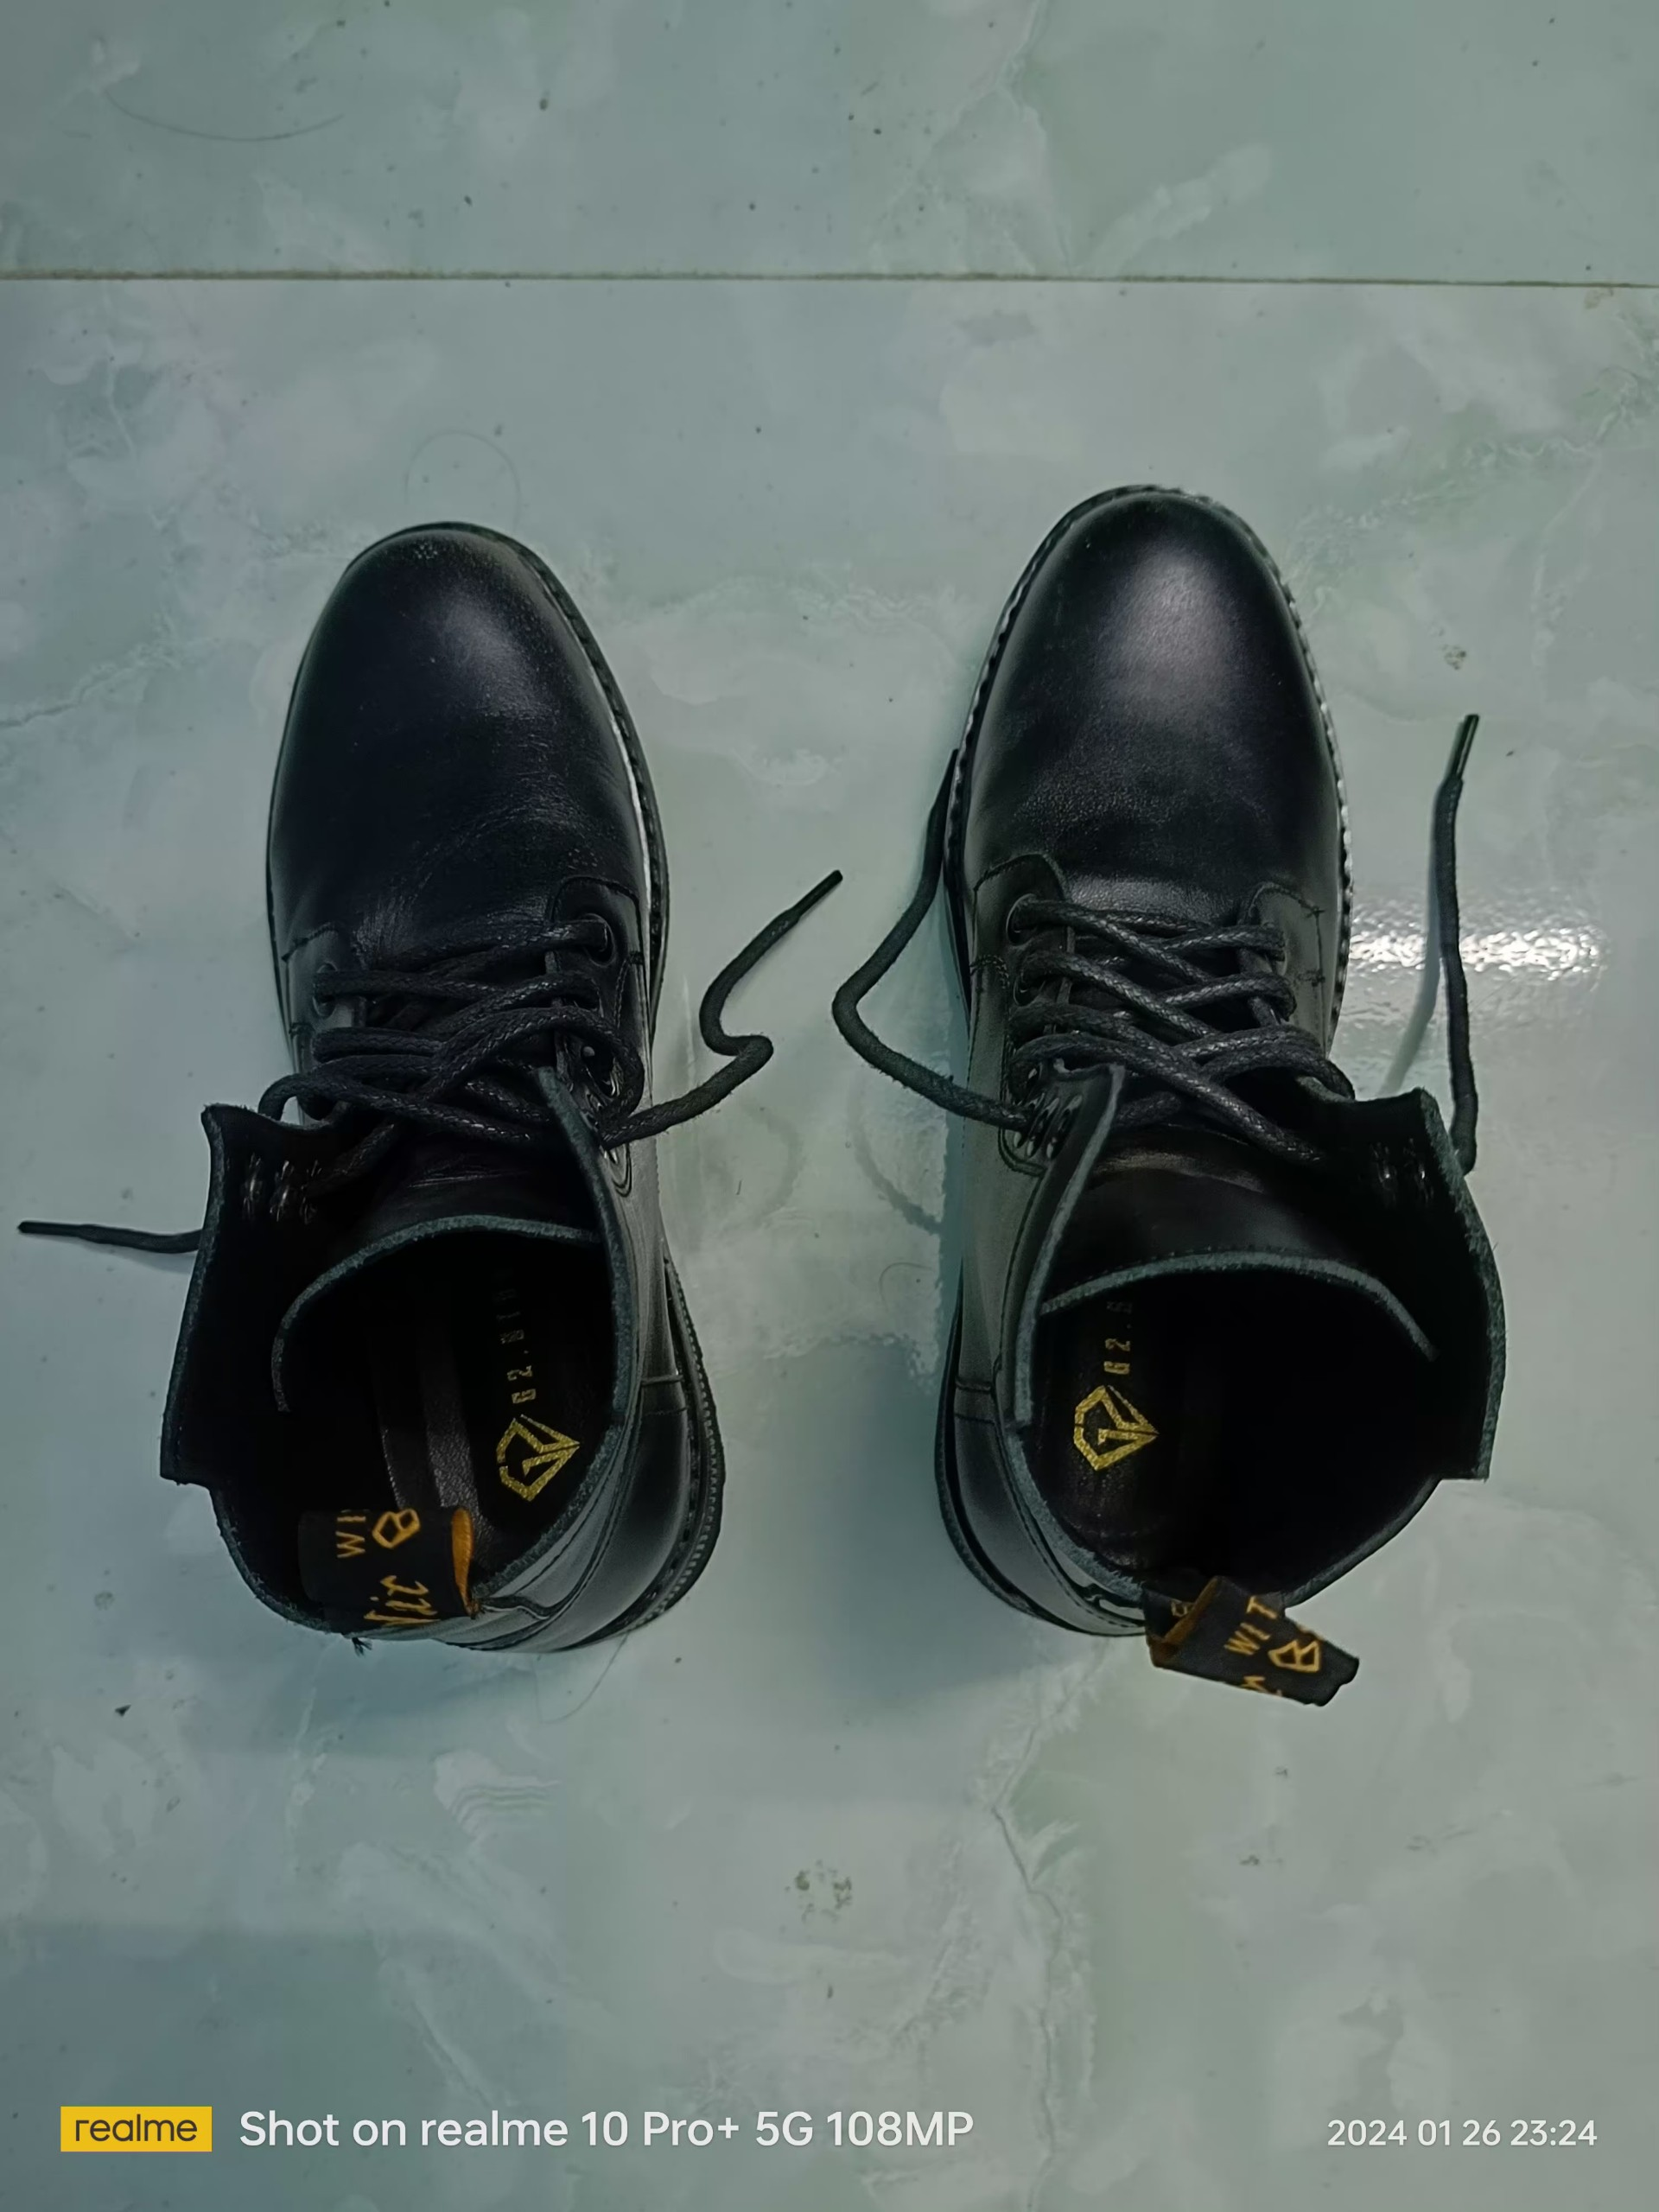boots: (929, 486, 1507, 1642), (155, 517, 735, 1670)
